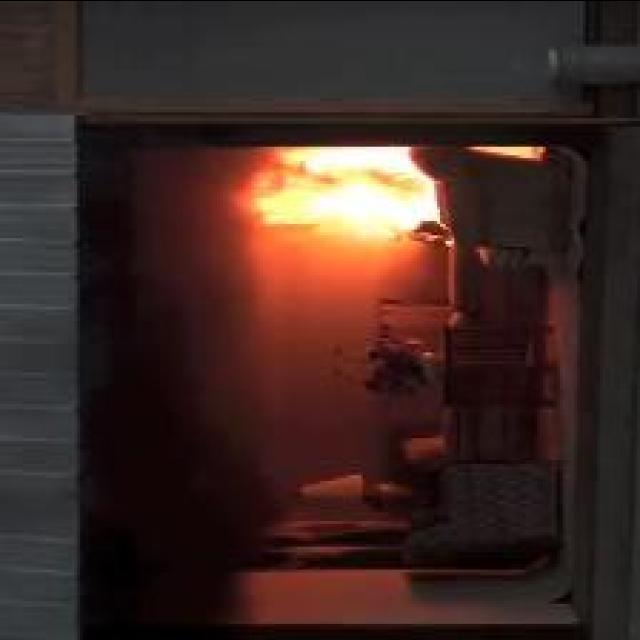Fire: (256, 147, 438, 235)
